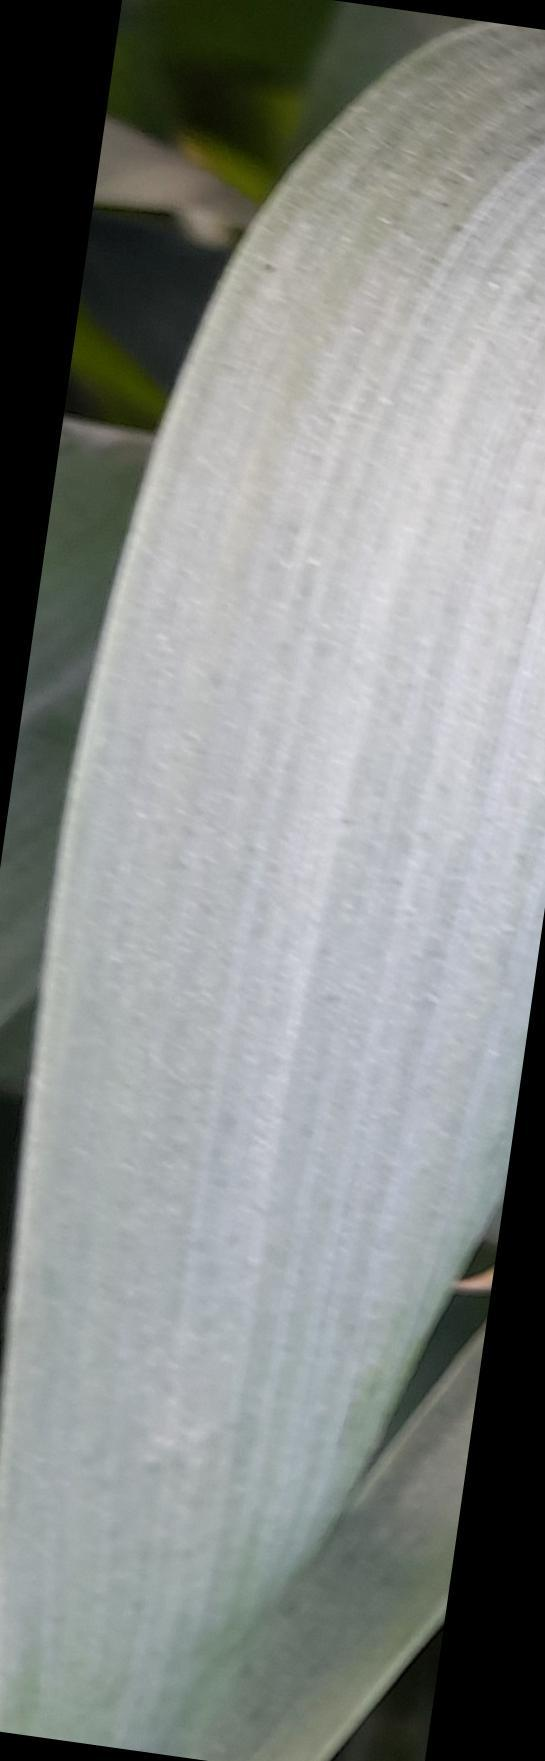Wheat: (29, 1193, 367, 1692), (87, 839, 494, 1161), (133, 580, 545, 827), (236, 286, 533, 554), (383, 126, 535, 261)
